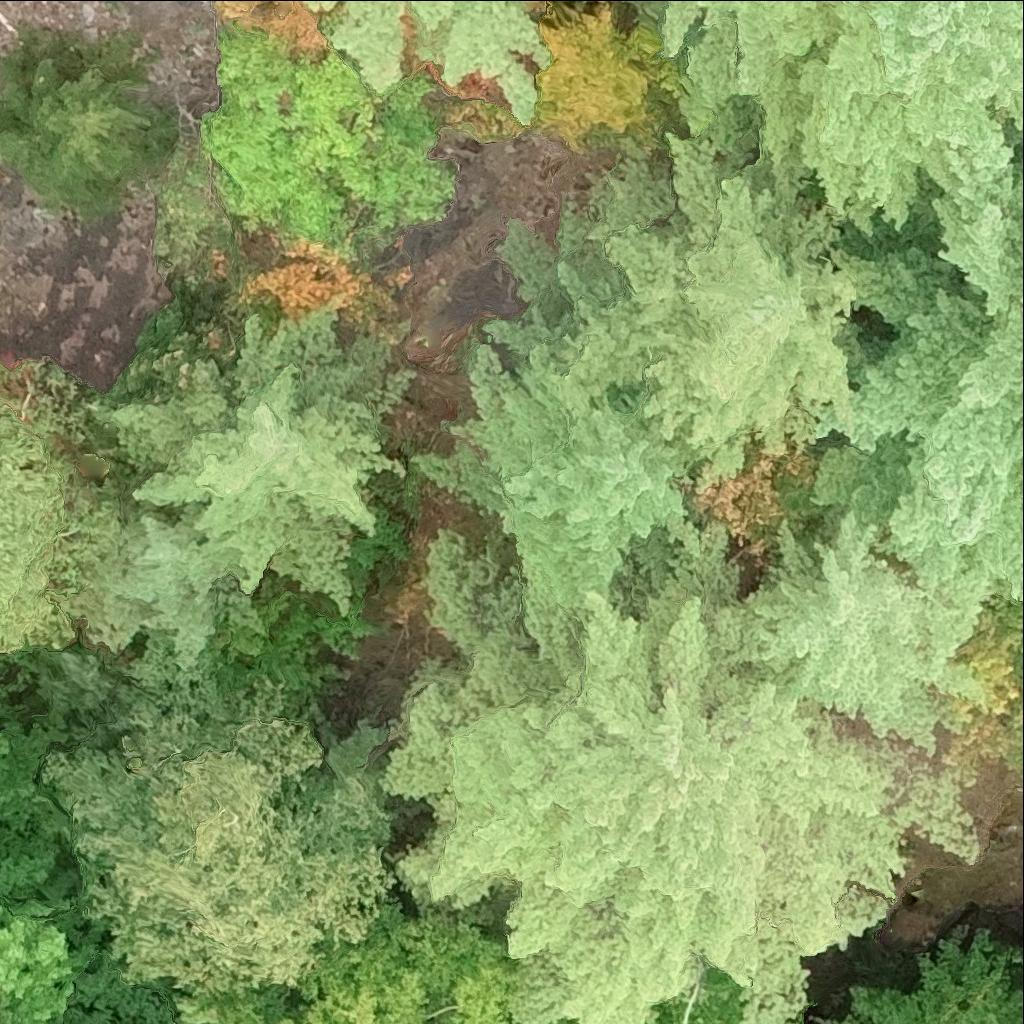crown: (385, 526, 905, 1023), (48, 634, 388, 994), (493, 132, 844, 451), (807, 160, 1023, 610), (414, 353, 714, 645), (116, 311, 414, 601), (660, 0, 1023, 223), (719, 519, 986, 746), (201, 31, 457, 249), (0, 356, 148, 657), (178, 916, 519, 1023), (0, 31, 174, 224), (313, 0, 552, 123), (110, 501, 267, 666), (925, 580, 1023, 773), (519, 0, 643, 150), (217, 0, 335, 61), (648, 965, 743, 1023), (554, 1022, 563, 1023)
